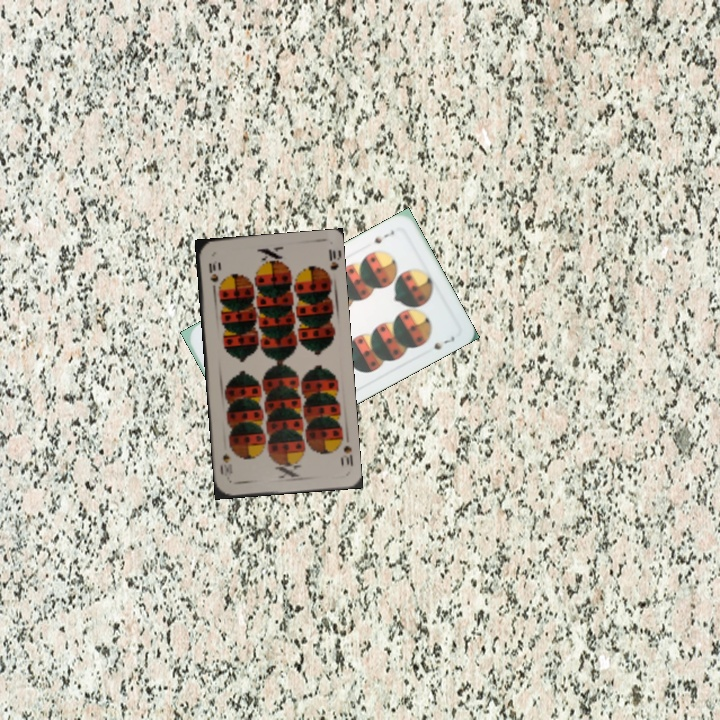S10: (205, 257, 221, 294), (337, 442, 356, 468)
S7: (369, 226, 397, 246)
